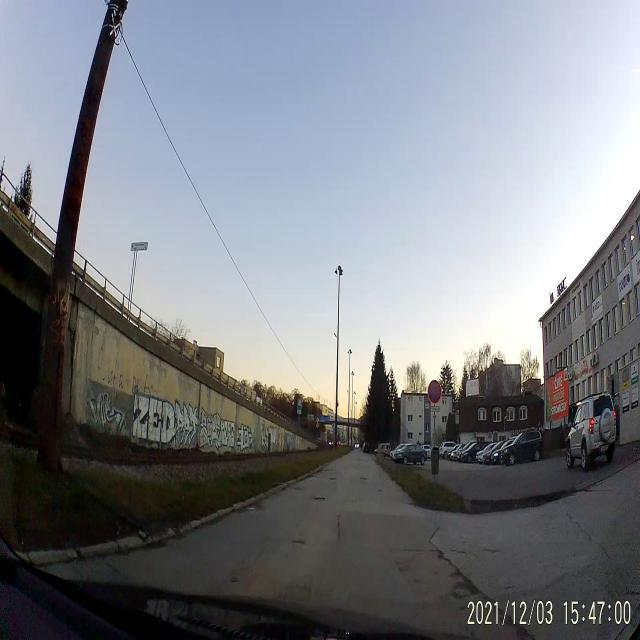Pothole: (452, 564, 479, 604), (292, 536, 306, 552), (312, 496, 326, 506), (229, 575, 239, 587), (359, 475, 370, 483), (328, 474, 338, 482), (378, 487, 383, 492)
